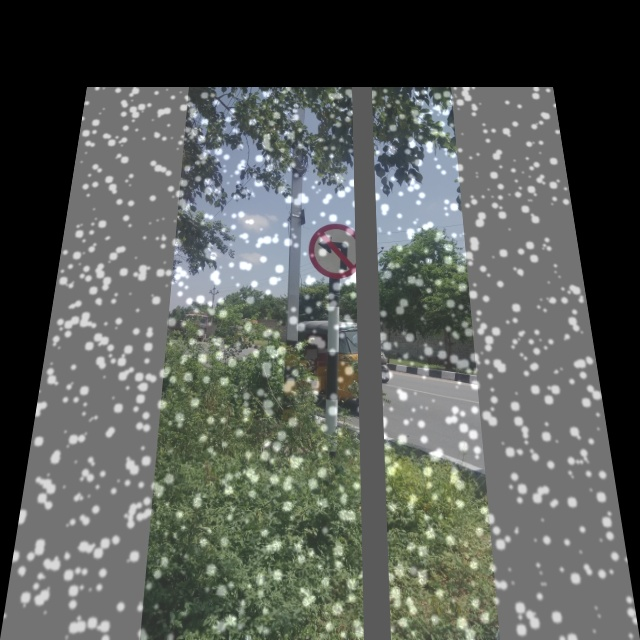Left_Turn_Prohibited: (306, 222, 368, 281)
